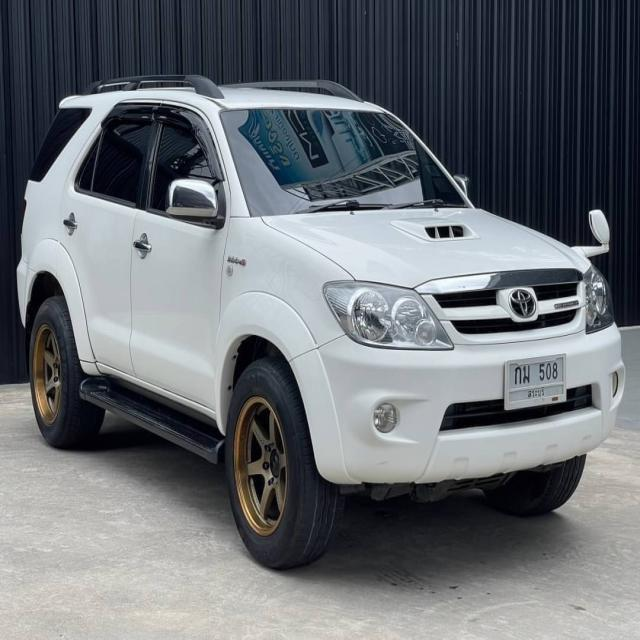license_plate: (504, 352, 570, 411)
